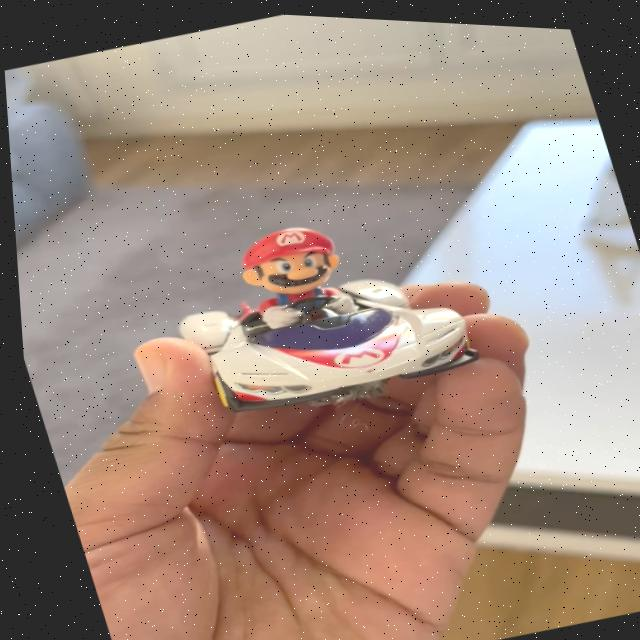mario: (129, 173, 498, 442)
